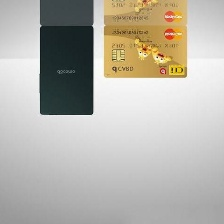book: (33, 23, 97, 118), (101, 22, 188, 80)
